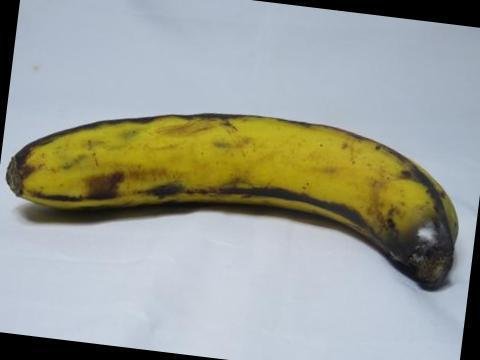ripe: (11, 86, 473, 287)
rotten: (369, 180, 464, 286)
